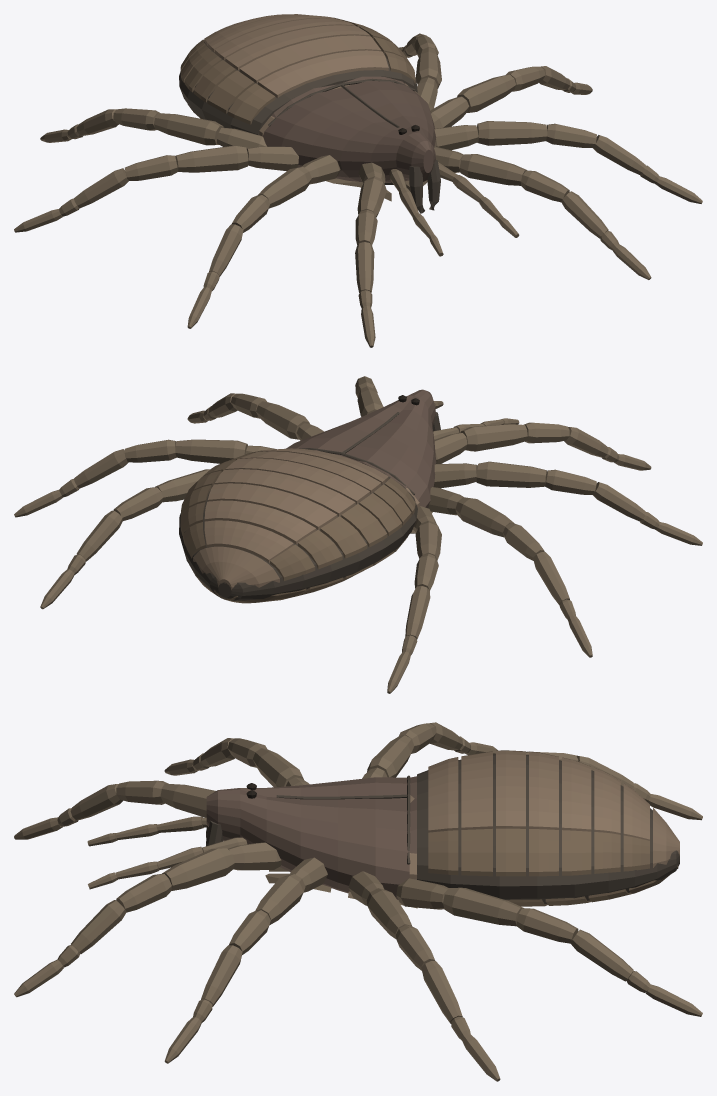
3 renders of one model, top to bottom at view 1: azimuth 30°, elevation 25°; view 2: azimuth 150°, elevation 25°; view 3: azimuth 270°, elevation 25°, orthographic. The views are drawn at different scales.
Parts seen in each view (by area): view 1: export_limbs, export_carapace, export_dorsal_plates, export_lateral_plates, export_ventral_cuticle; view 2: export_limbs, export_dorsal_plates, export_lateral_plates, export_carapace, export_ventral_cuticle; view 3: export_limbs, export_carapace, export_dorsal_plates, export_lateral_plates, export_ventral_cuticle.
Part boxes in pixels (x1,y1,x2,y2): export_limbs: [14, 33, 702, 347]; export_carapace: [260, 76, 436, 182]; export_dorsal_plates: [204, 14, 419, 136]; export_lateral_plates: [180, 17, 415, 124]; export_ventral_cuticle: [179, 39, 440, 213]; export_limbs: [14, 376, 702, 693]; export_dorsal_plates: [193, 448, 419, 590]; export_lateral_plates: [180, 450, 415, 603]; export_carapace: [286, 389, 436, 508]; export_ventral_cuticle: [179, 412, 440, 600]; export_limbs: [14, 722, 702, 1081]; export_carapace: [206, 776, 416, 899]; export_dorsal_plates: [409, 751, 679, 878]; export_lateral_plates: [428, 750, 678, 906]; export_ventral_cuticle: [206, 754, 679, 903].
Bounding box in the file's own units: 0.0103 × 0.00209 × 0.00917.
